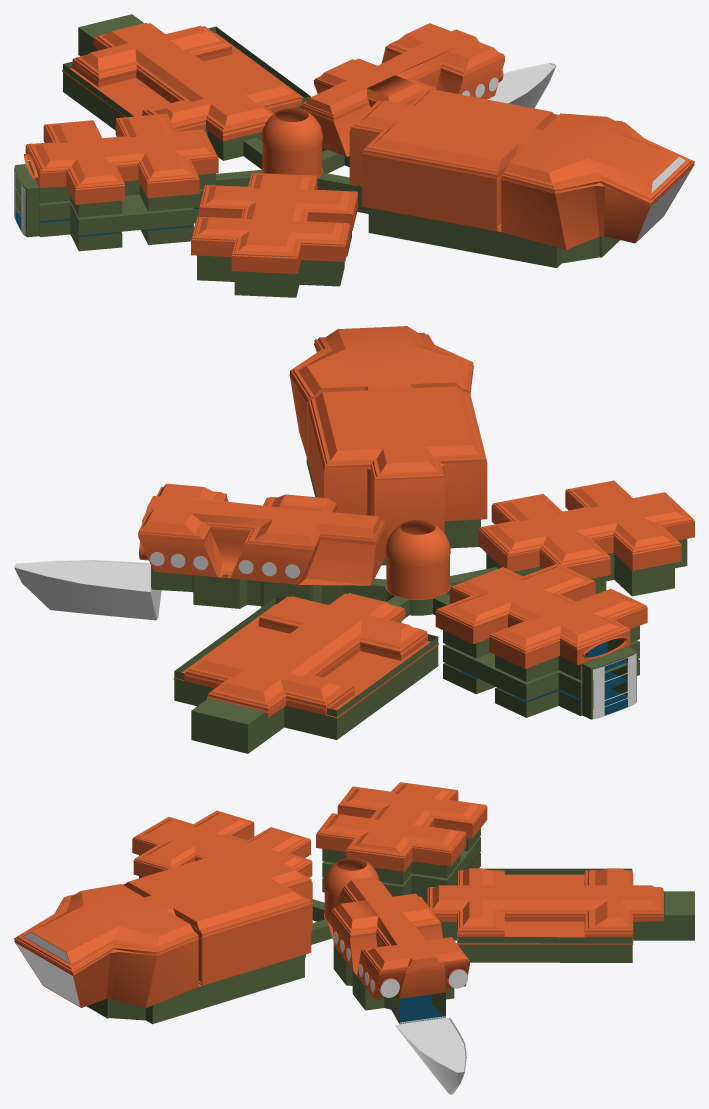
Rendered from Veteran Art Museum.FBX.
3 views of the same model, one above another, from view 1: azimuth 30°, elevation 25°; view 2: azimuth 150°, elevation 25°; view 3: azimuth 270°, elevation 25° (orthographic). The views are drawn at different scales.
Visible parts, largest first — view 1: Ceiling003, Ceiling, Ceiling002, Ceiling001, Ceiling004, Box006, Box008, Box001, Capsule001, Box007, Box011, Glass Window (+2 smaller); view 2: Ceiling003, Ceiling, Ceiling004, Ceiling002, Ceiling001, Box001, Box006, Box011, Box009, Capsule001, Box007, Long Verticle Window (+2 smaller); view 3: Ceiling003, Ceiling, Ceiling004, Ceiling001, Box001, Ceiling002, Box008, Box011, Box006, Box009, Capsule001, Glass Window (+2 smaller).
Part boxes in pixels (x1,y1,x2,y2): Ceiling003: [349, 89, 694, 249]; Ceiling: [62, 22, 303, 141]; Ceiling002: [191, 173, 357, 273]; Ceiling001: [24, 113, 218, 204]; Ceiling004: [300, 23, 505, 156]; Box006: [14, 161, 215, 251]; Box008: [317, 172, 619, 267]; Box001: [63, 14, 310, 169]; Capsule001: [261, 108, 323, 176]; Box007: [197, 231, 351, 297]; Box011: [463, 62, 556, 108]; Glass Window: [636, 167, 692, 241]; Ceiling003: [289, 326, 487, 538]; Ceiling: [173, 593, 438, 718]; Ceiling004: [138, 483, 387, 585]; Ceiling002: [478, 480, 694, 578]; Ceiling001: [435, 563, 647, 668]; Box001: [174, 595, 438, 753]; Box006: [443, 626, 639, 719]; Box011: [14, 560, 161, 620]; Box009: [151, 563, 386, 608]; Capsule001: [385, 520, 450, 599]; Box007: [450, 539, 687, 596]; Long Verticle Window: [593, 653, 636, 719]; Ceiling003: [14, 852, 312, 1007]; Ceiling: [426, 868, 663, 944]; Ceiling004: [327, 876, 469, 998]; Ceiling001: [316, 782, 487, 871]; Box001: [440, 868, 694, 962]; Ceiling002: [132, 810, 312, 877]; Box008: [86, 919, 332, 1024]; Box011: [395, 1017, 466, 1094]; Box006: [322, 828, 480, 902]; Box009: [333, 943, 454, 1023]; Capsule001: [324, 857, 379, 920]; Glass Window: [16, 943, 80, 1006].
Size of what is drawn, in the model's own units: 12476 by 2916 by 14381.
